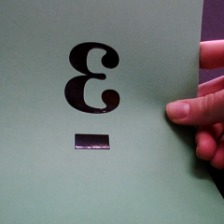green3: (63, 36, 123, 157)
